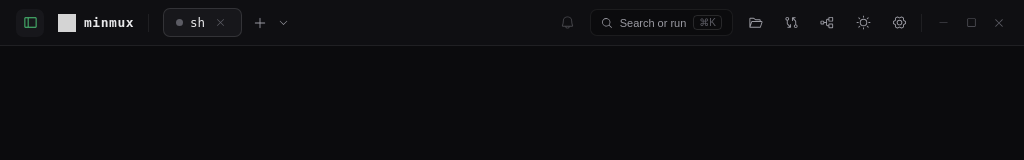
it: TopBar — renaming a tab › double-click, type, Enter: saves the trimmed name and closes the field
The width and height of the screenshot is (1024, 160).
Double-click the element with class "tab" at [203, 22], box 163,8 -> 242,37
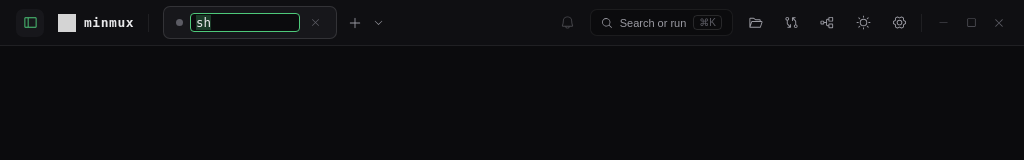
Replace the text in the field with class "tab-rename" with " build " at [245, 22], box 190,13 -> 300,32
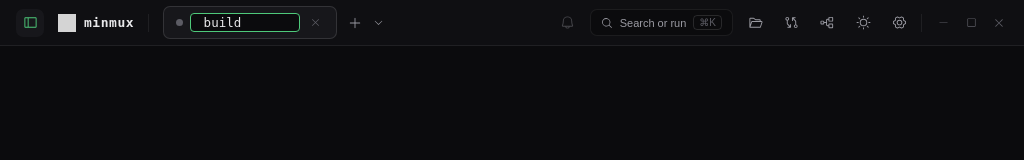
Press Enter in the field with class "tab-rename", box 190,13 -> 300,32
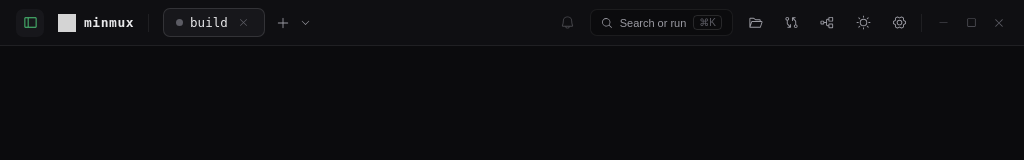
Expected: the text "build" is shown, 190,15 -> 228,30
Expected: the field with class "tab-rename" is gone
Expected: the text with class "tab-title" reads "build", 190,15 -> 228,30
